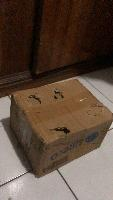damaged package: (49, 125, 71, 138), (86, 102, 106, 116), (25, 92, 42, 107), (52, 91, 60, 100)
undamaged: (6, 76, 111, 179)
